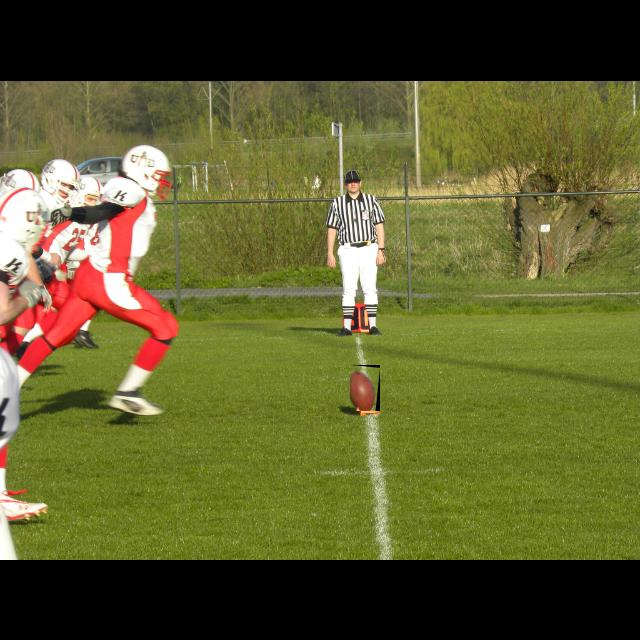Football: (350, 365, 380, 411)
